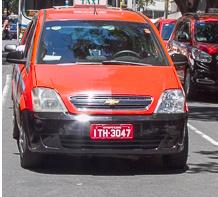placa_antiga: (91, 124, 133, 139)
